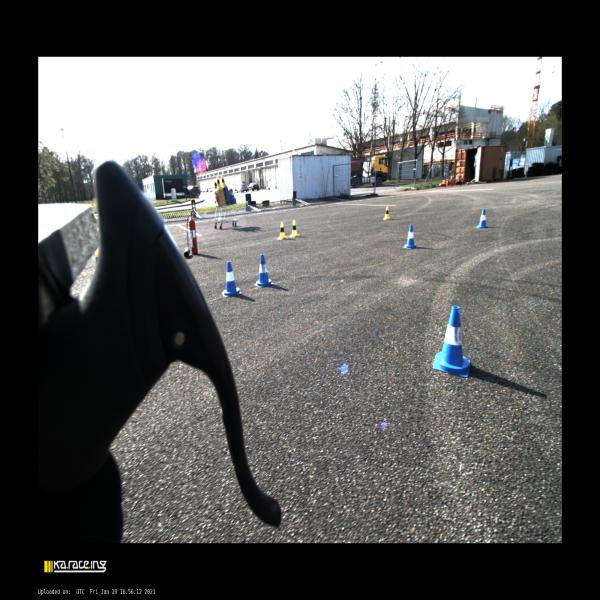blue_cone: (433, 306, 471, 377), (222, 261, 241, 297), (254, 254, 274, 288), (403, 225, 418, 249), (476, 209, 488, 228), (231, 188, 236, 199)
large_orange_cone: (446, 179, 448, 187)
orange_cone: (450, 174, 453, 180)
yellow_cone: (278, 222, 287, 240), (290, 220, 298, 237), (383, 206, 390, 220), (216, 175, 222, 189), (221, 176, 227, 188), (214, 180, 217, 188)
